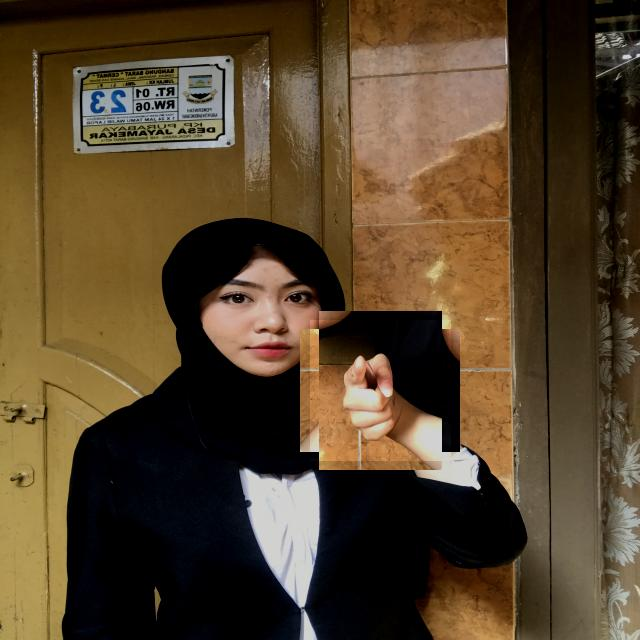kamu: (310, 320, 451, 461)
